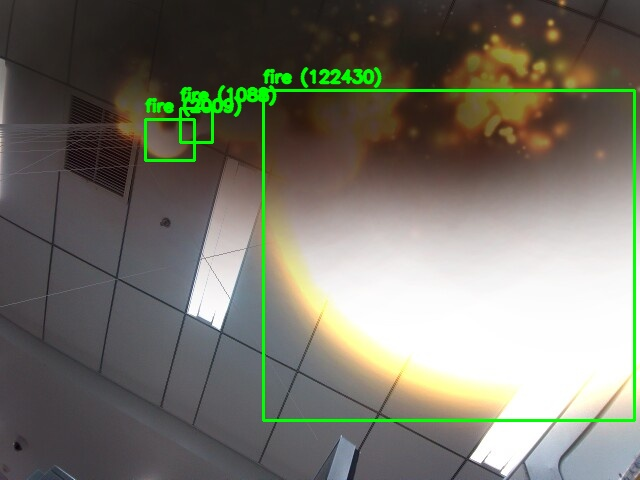fire: (263, 90, 634, 420), (145, 119, 194, 160), (180, 108, 212, 142)
